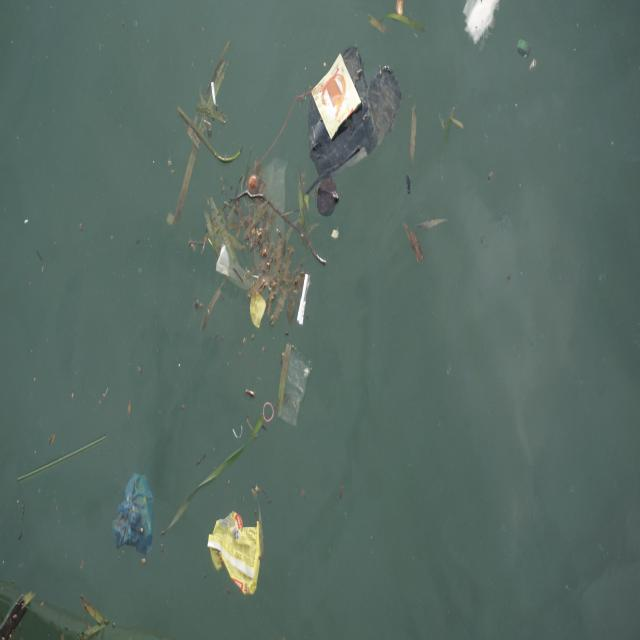Bungkus Makanan: (207, 510, 265, 603)
Bungkus Minuman: (312, 53, 363, 142)
Kantong Plastik: (115, 470, 160, 564), (282, 341, 313, 429)
